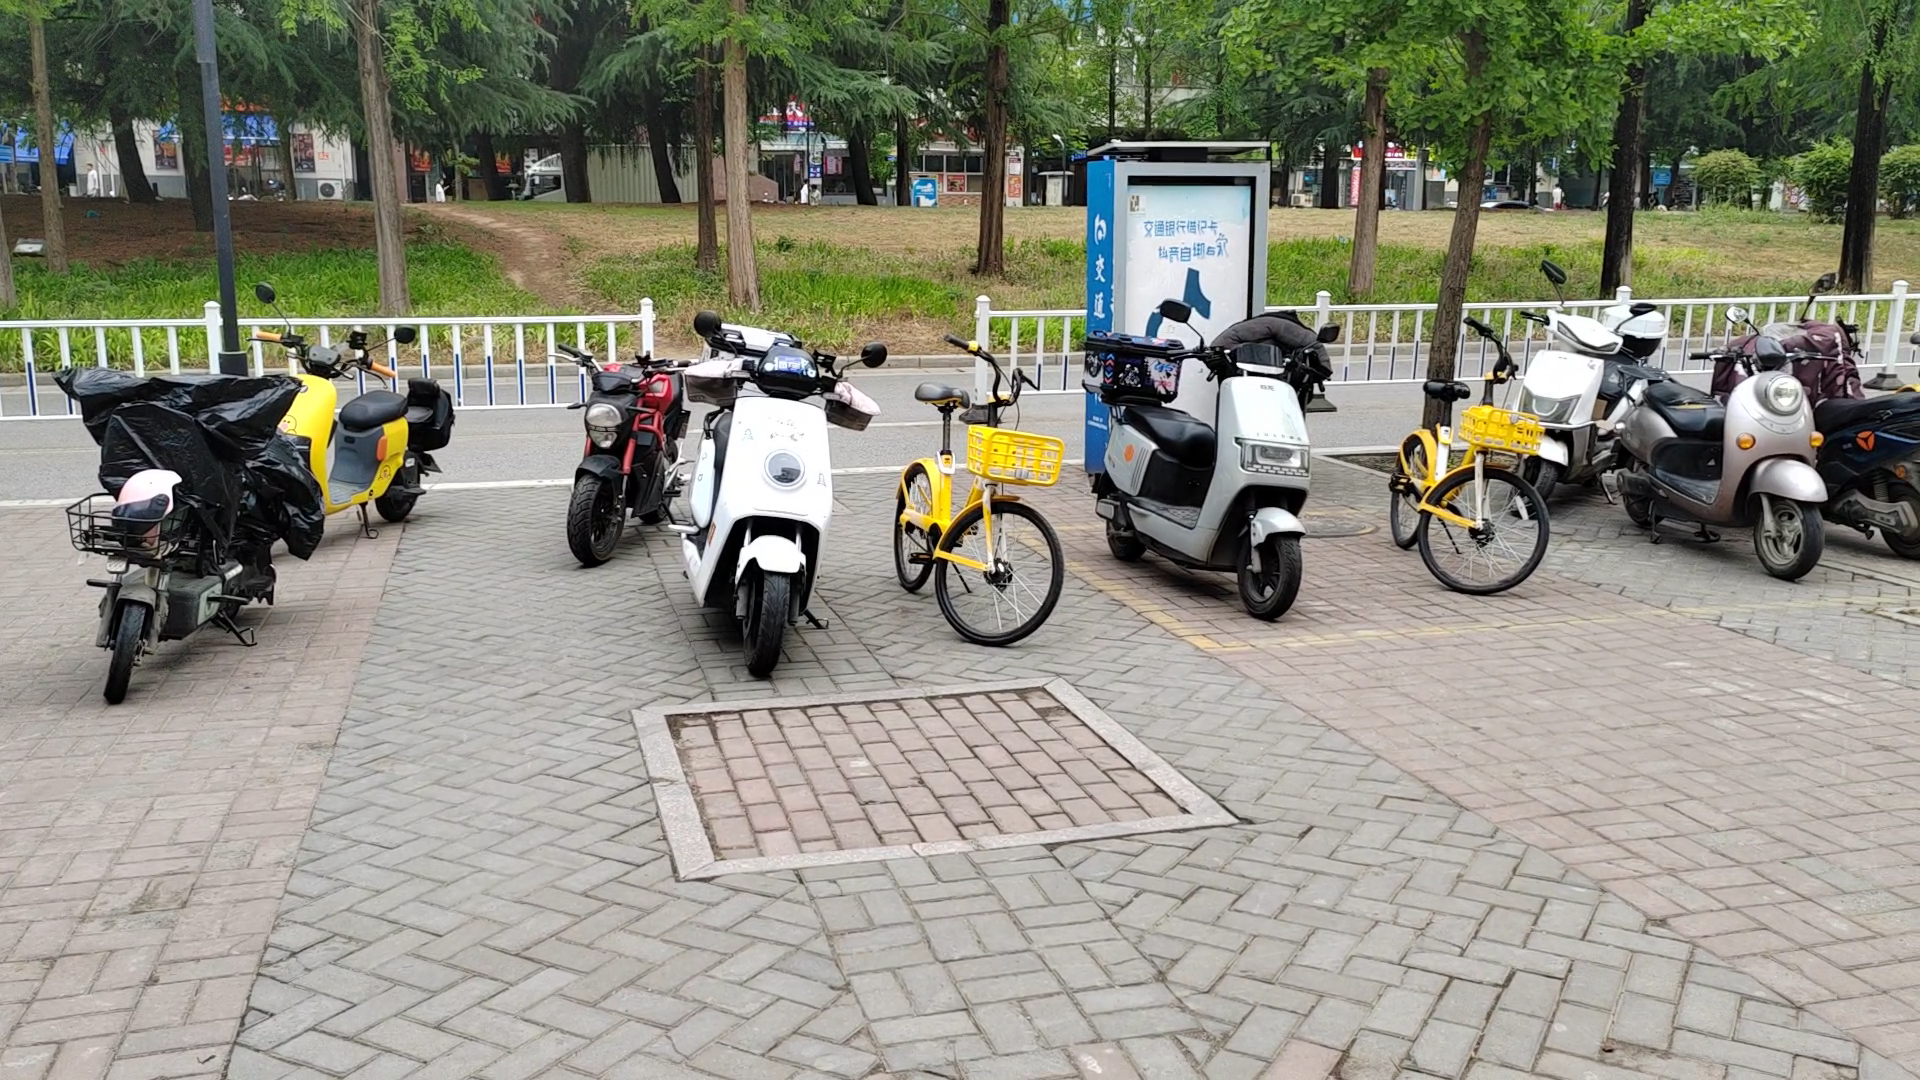others: (29, 352, 338, 653), (1069, 302, 1320, 618), (688, 291, 843, 692), (1615, 309, 1821, 596), (258, 301, 455, 559), (1778, 309, 1920, 568), (560, 338, 684, 568), (1540, 264, 1644, 522)
shared_bike_meituan: (1373, 289, 1542, 667), (891, 340, 1062, 642)
